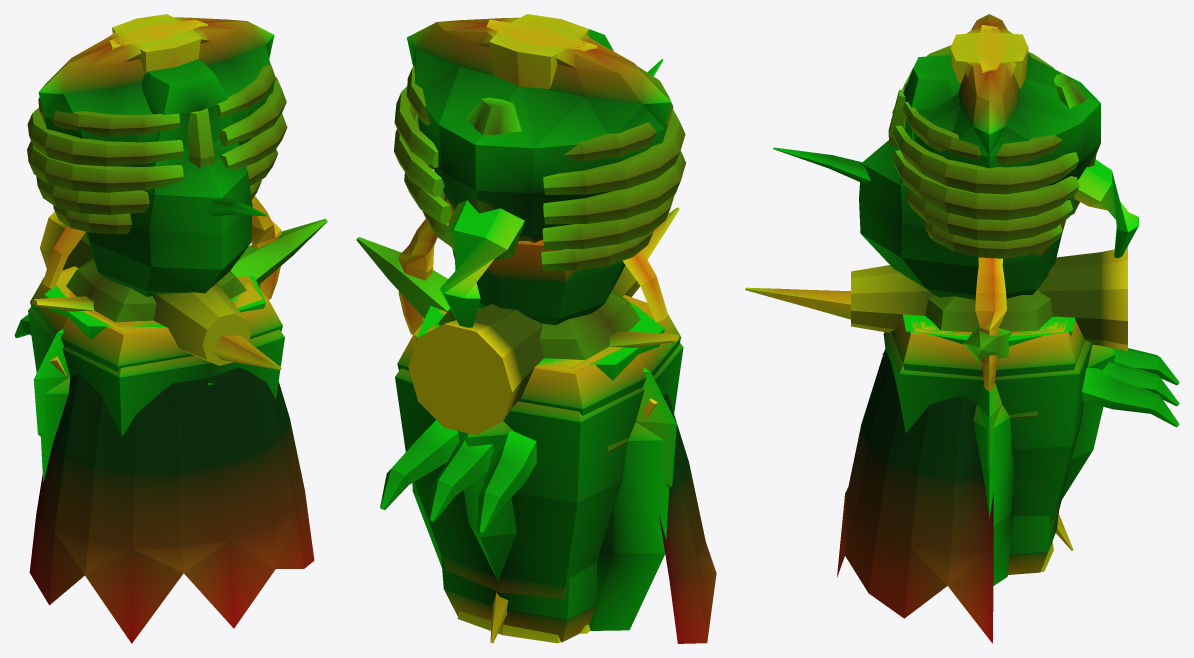
File: seraph.glb
3 renders of one model, left to right at view 1: azimuth 30°, elevation 25°; view 2: azimuth 150°, elevation 25°; view 3: azimuth 270°, elevation 25°, orthographic. The views are drawn at different scales.
Visible parts, largest first — view 1: manto, costelado, elmo, torax, coxa, bazuca, braco, ombreira, pescoco, halo, antebraco, pena_p (+5 smaller); view 2: torax, coxa, costelado, elmo, bazuca, braco, mao, pe, manto, ombreira, pescoco, canela (+8 smaller); view 3: manto, costelado, elmo, torax, coxa, bazuca, braco, pe, ombreira, mao, halo, pescoco (+7 smaller).
Boxes of the visible parts, x1,y1,x2,y2 form: manto: (29, 367, 314, 643); costelado: (27, 63, 287, 234); elmo: (85, 59, 252, 296); torax: (38, 17, 274, 166); coxa: (28, 292, 284, 436); bazuca: (40, 211, 250, 365); braco: (30, 266, 282, 371); ombreira: (66, 218, 327, 322); pescoco: (112, 14, 200, 73); halo: (42, 196, 281, 379); antebraco: (56, 268, 281, 369); pena_p: (33, 329, 70, 436); torax: (407, 17, 671, 242); coxa: (395, 324, 683, 598); costelado: (394, 65, 685, 271); elmo: (440, 29, 625, 327); bazuca: (408, 265, 640, 435); braco: (397, 295, 681, 642); mao: (412, 346, 668, 630); pe: (380, 420, 536, 533); manto: (659, 394, 716, 643); ombreira: (356, 237, 640, 453); pescoco: (489, 14, 589, 88); canela: (457, 421, 560, 643); manto: (837, 349, 993, 643); costelado: (888, 45, 1079, 258); elmo: (859, 55, 1138, 299); torax: (914, 14, 1100, 200); coxa: (883, 331, 1092, 531); bazuca: (851, 247, 1127, 350); braco: (891, 316, 1084, 574); pe: (882, 348, 1179, 427); ombreira: (925, 289, 1052, 419); mao: (920, 321, 1058, 585); halo: (975, 257, 1006, 391); pescoco: (950, 32, 1028, 88).
Bounding box in the file's own units: 1.21 × 2.14 × 1.57.
